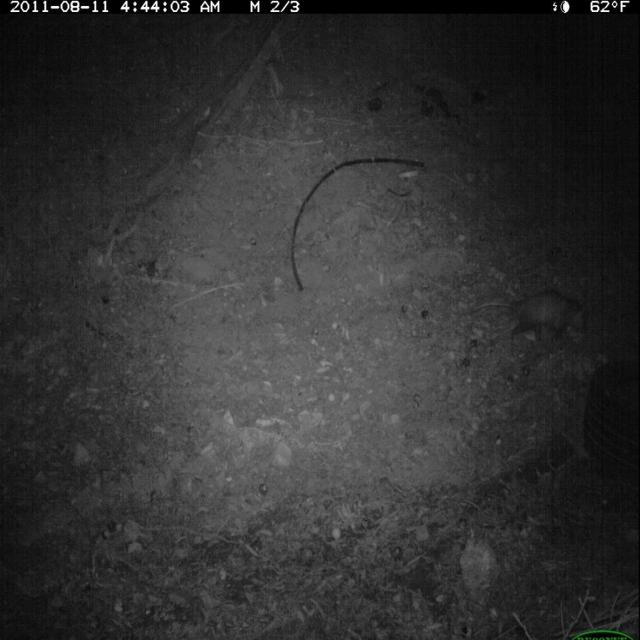opossum: (498, 280, 618, 370)
